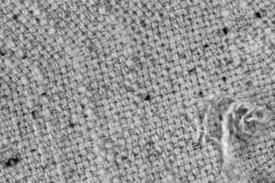snag: (194, 83, 273, 171)
